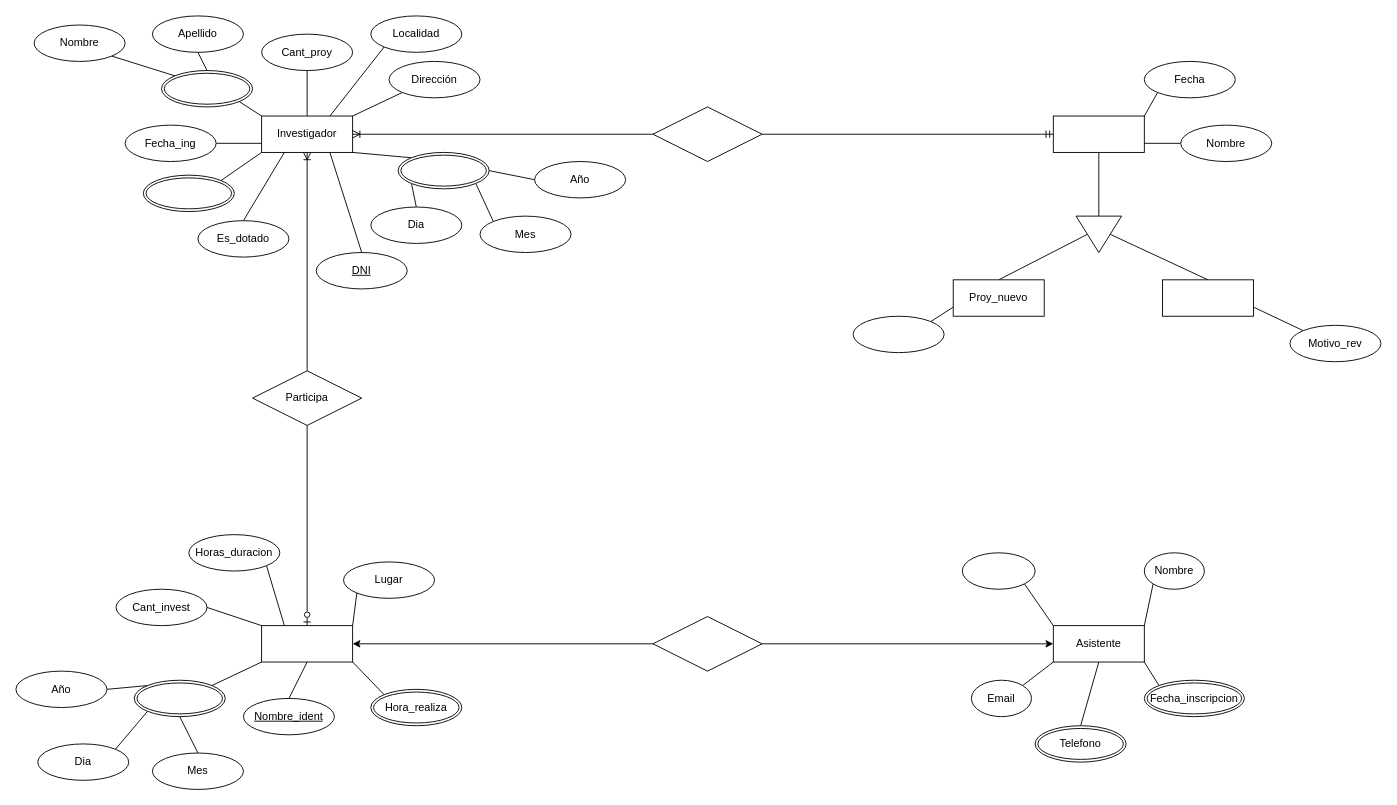
This 1397x805 diagram has some shape labels left out. The shapes that lost their labels are listed below. From the top down, each one's centre as x and y in pixels, then its label:
At (x=207, y=88): "Nomb_comp".
At (x=707, y=134): "Trabaja".
At (x=1098, y=133): "Proyecto".
At (x=443, y=170): "Fecha_inicio_pue".
At (x=188, y=193): "Telefonos".
At (x=1208, y=297): "Proy_rev".
At (x=898, y=334): "Presupuesto".
At (x=998, y=570): "Presentismo".
At (x=307, y=643): "Conferencia".
At (x=707, y=643): "Asiste".
At (x=179, y=698): "Fecha_inicio".
